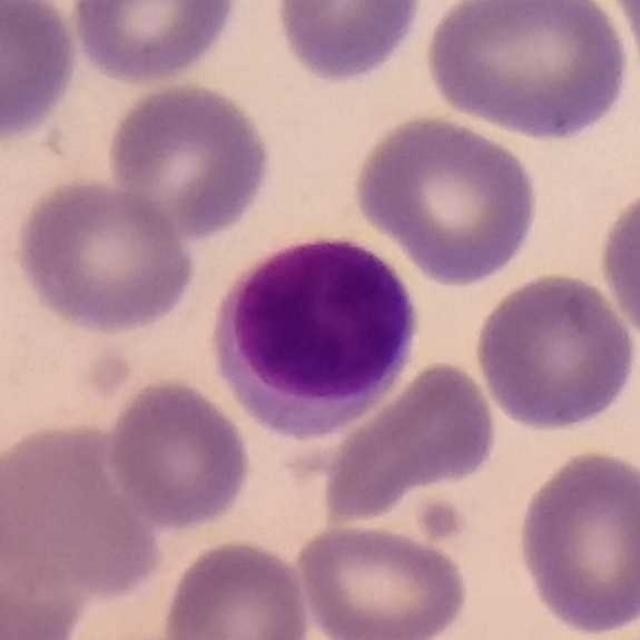Lymphocyte: (206, 226, 425, 440)
RBC: (348, 110, 544, 288), (316, 355, 503, 530), (420, 0, 636, 145), (9, 175, 199, 337), (0, 419, 165, 601), (103, 76, 277, 242), (471, 267, 639, 434), (512, 445, 640, 639), (103, 374, 255, 533), (292, 518, 473, 640), (158, 535, 316, 640), (64, 0, 245, 87), (269, 0, 430, 88), (0, 489, 90, 640), (0, 1, 82, 144), (594, 179, 640, 351), (608, 0, 639, 102)
